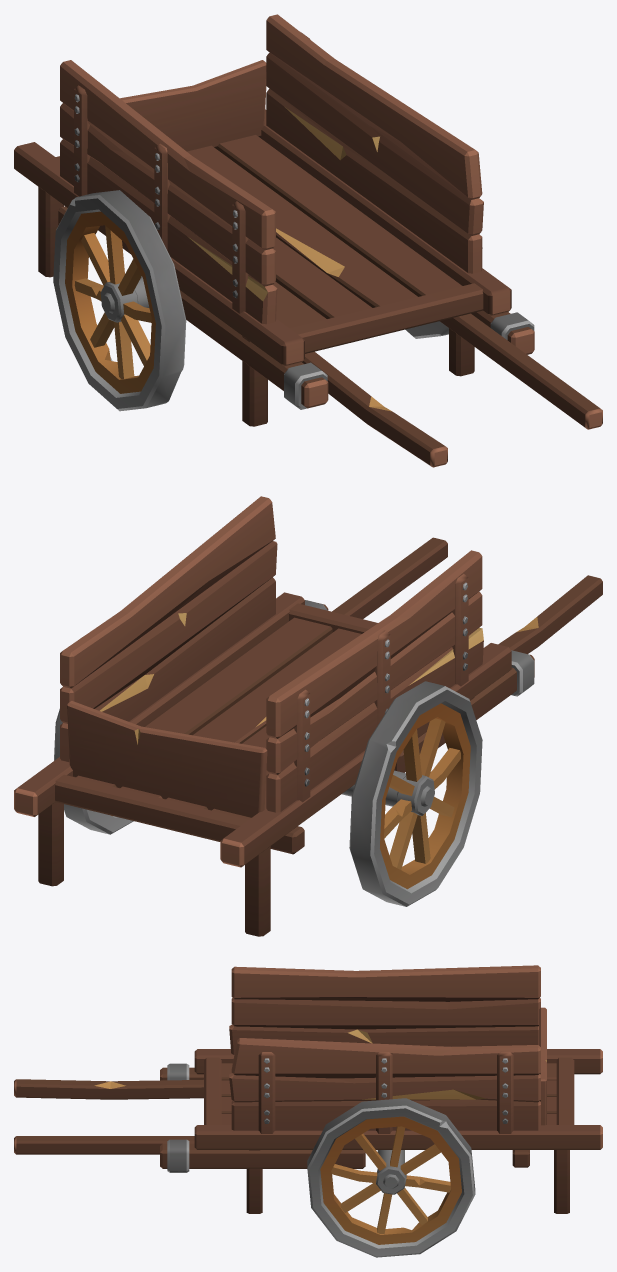
The model's file is Cart_1_B.glb.
3 renders of one model, top to bottom at view 1: azimuth 30°, elevation 25°; view 2: azimuth 150°, elevation 25°; view 3: azimuth 270°, elevation 25°, orthographic. The views are drawn at different scales.
Visible parts, largest first — view 1: Cart_1_B; view 2: Cart_1_B; view 3: Cart_1_B.
Part boxes in pixels (left/top/right/bottom): Cart_1_B: left=14, top=14, right=602, bottom=467; Cart_1_B: left=14, top=496, right=602, bottom=936; Cart_1_B: left=14, top=965, right=602, bottom=1257.
Bounding box in the file's own units: 1.88 × 1.46 × 3.94.
2 materials, 2 textured.
